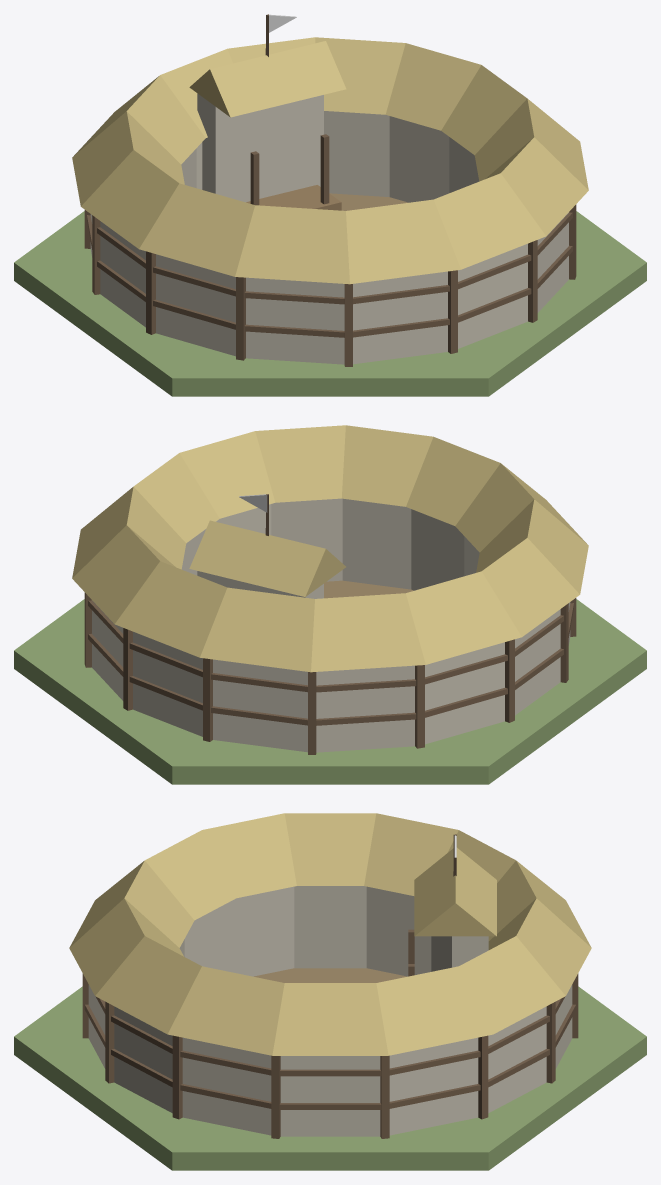
The model's file is globe-theatre.glb.
3 views of the same model, one above another, from view 1: azimuth 30°, elevation 25°; view 2: azimuth 150°, elevation 25°; view 3: azimuth 270°, elevation 25° (orthographic).
Visible parts, largest first — view 1: LOD0; view 2: LOD0; view 3: LOD0.
Part boxes in pixels (left/top/right/bottom): LOD0: left=14, top=14, right=646, bottom=396; LOD0: left=14, top=425, right=646, bottom=784; LOD0: left=14, top=813, right=646, bottom=1170.
Size of what is drawn, in the model's own units: 1.49 by 0.66 by 1.72.
